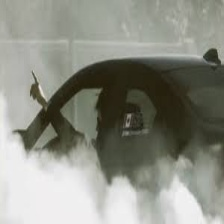smoke: (5, 150, 190, 224)
